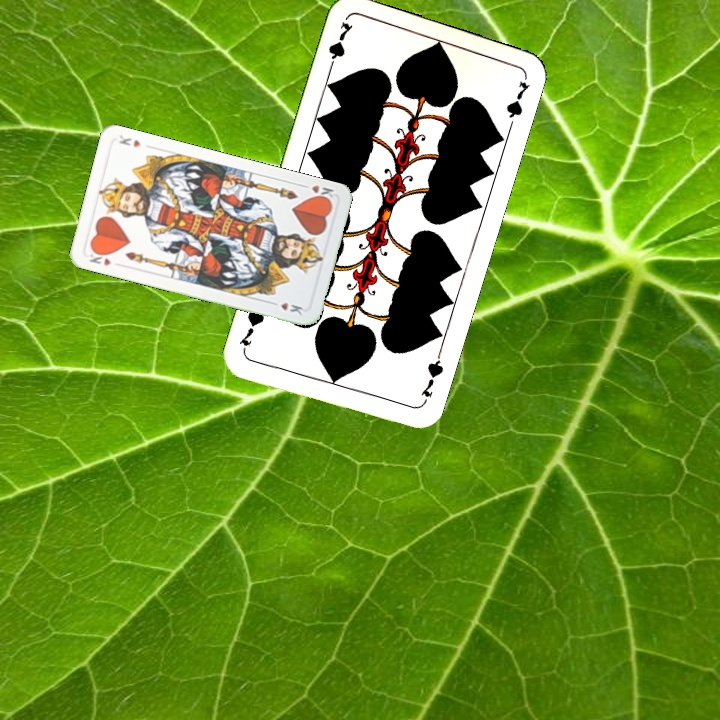G7: (324, 17, 356, 75), (416, 350, 447, 408)
HK: (297, 180, 337, 204), (85, 246, 114, 268)
